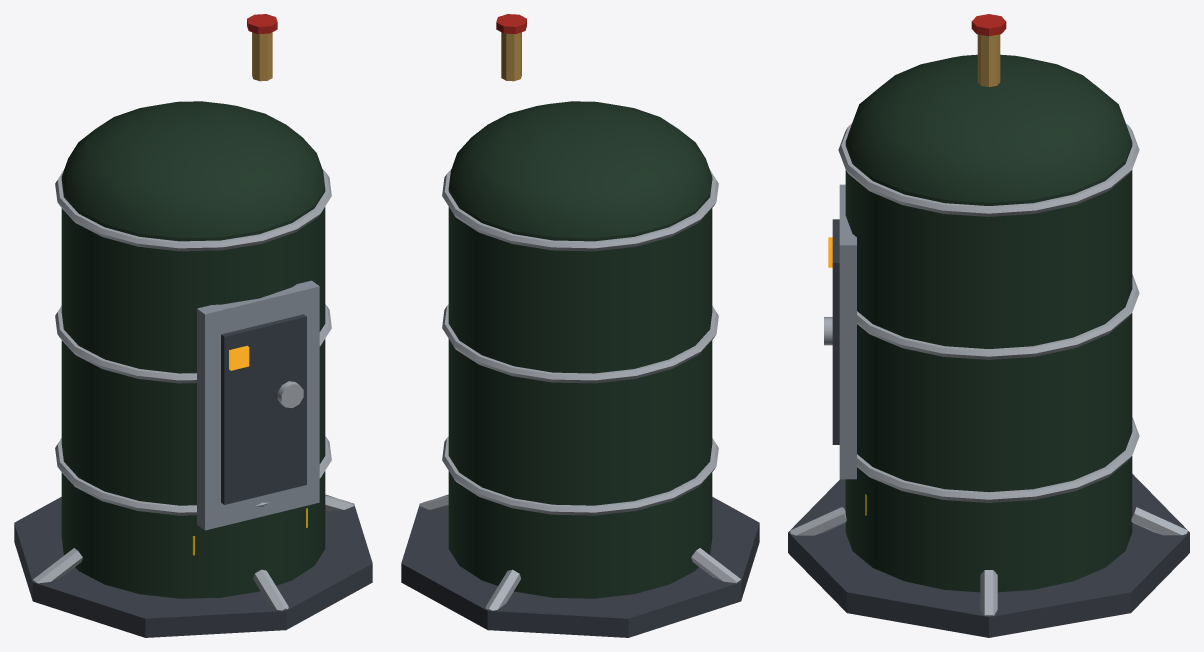
Rendered from crate_pod_pressurised_tall.glb.
3 views of the same model, side by side, from view 1: azimuth 30°, elevation 25°; view 2: azimuth 150°, elevation 25°; view 3: azimuth 270°, elevation 25° (orthographic). The views are drawn at different scales.
Parts seen in each view (by area): view 1: crate_pod_pressurised_tall; view 2: crate_pod_pressurised_tall; view 3: crate_pod_pressurised_tall.
Part boxes in pixels (<box>): crate_pod_pressurised_tall: <box>14,14,372,637</box>; crate_pod_pressurised_tall: <box>401,14,759,637</box>; crate_pod_pressurised_tall: <box>788,14,1189,637</box>.
Size of the model in its own units: 1.4 by 2.18 by 1.4.
